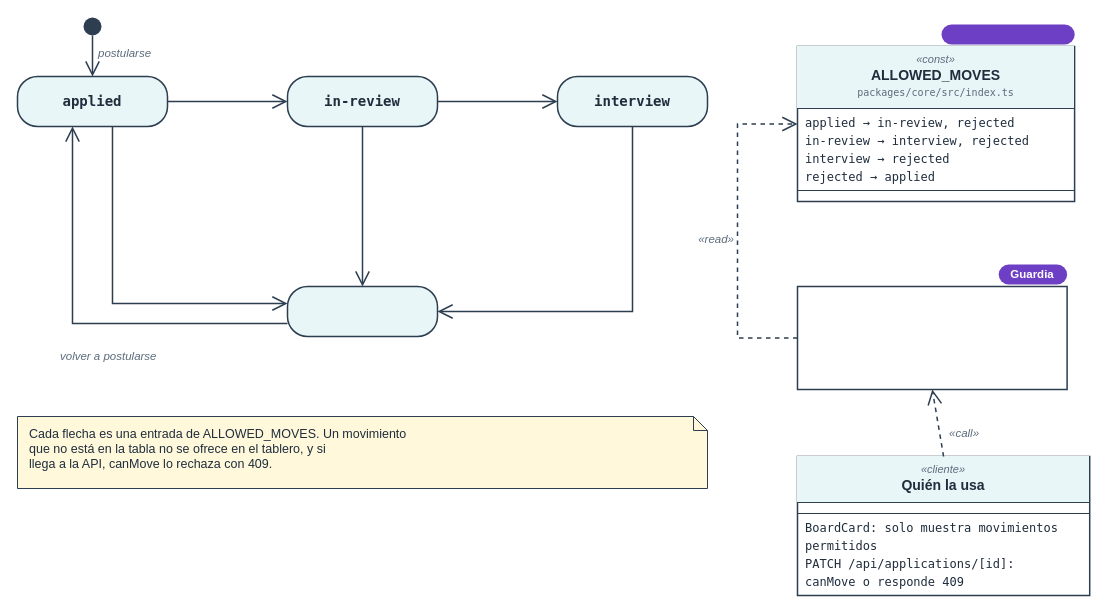
Some shapes in this 1108 by 613 pixel diagram are drawn without their labels. The shapes that lost their labels are listed below. From the top down, each one's centre as x and y in pixels, then its label:
At pixel 1007 34: "Tabla de estados".
At pixel 362 311: "rejected".
At pixel 931 337: "«function» canMove (from, to): boolean ALLOWED_MOVES[from].includes(to)".
